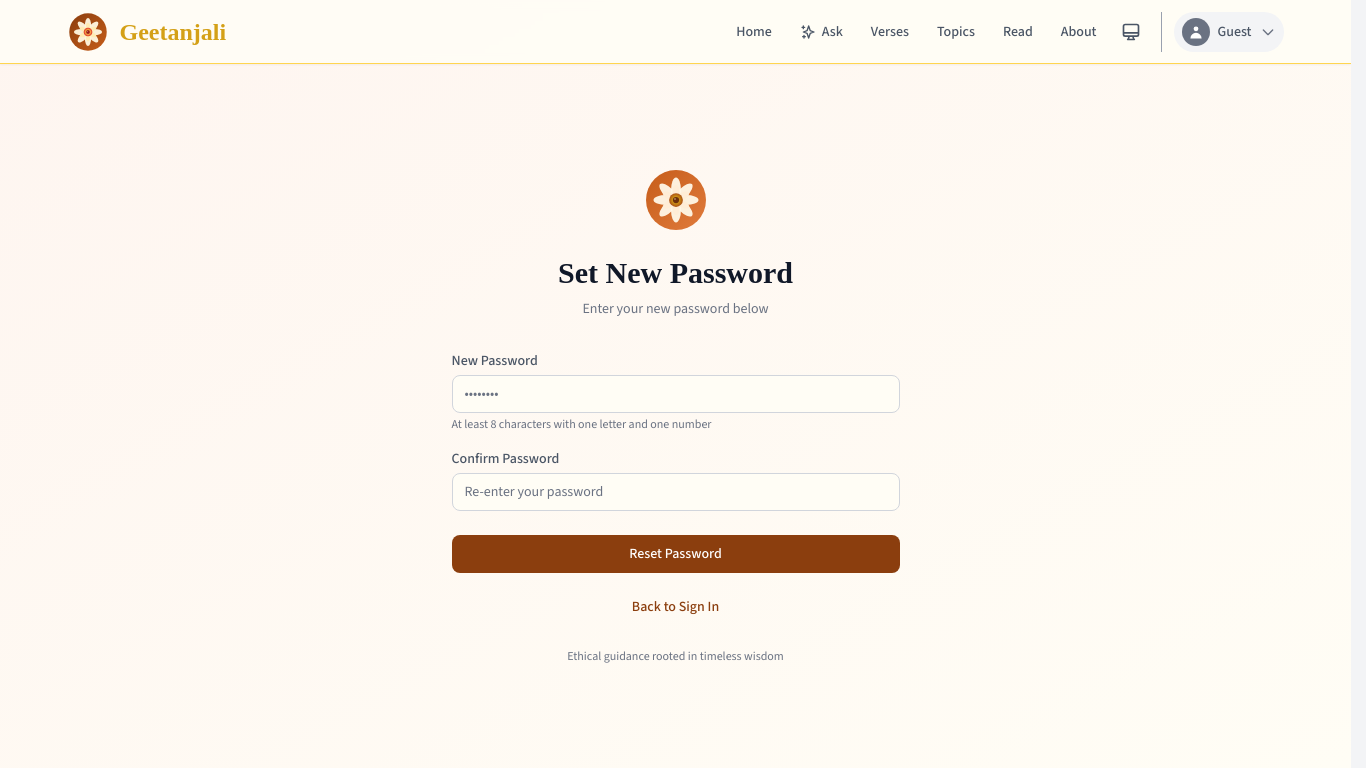
ResetPassword Page › should show error when password is too short
The width and height of the screenshot is (1366, 768).
Type "short" into the password field labelled "New Password".
click(676, 394); type("short")  # box [452,374,900,412]
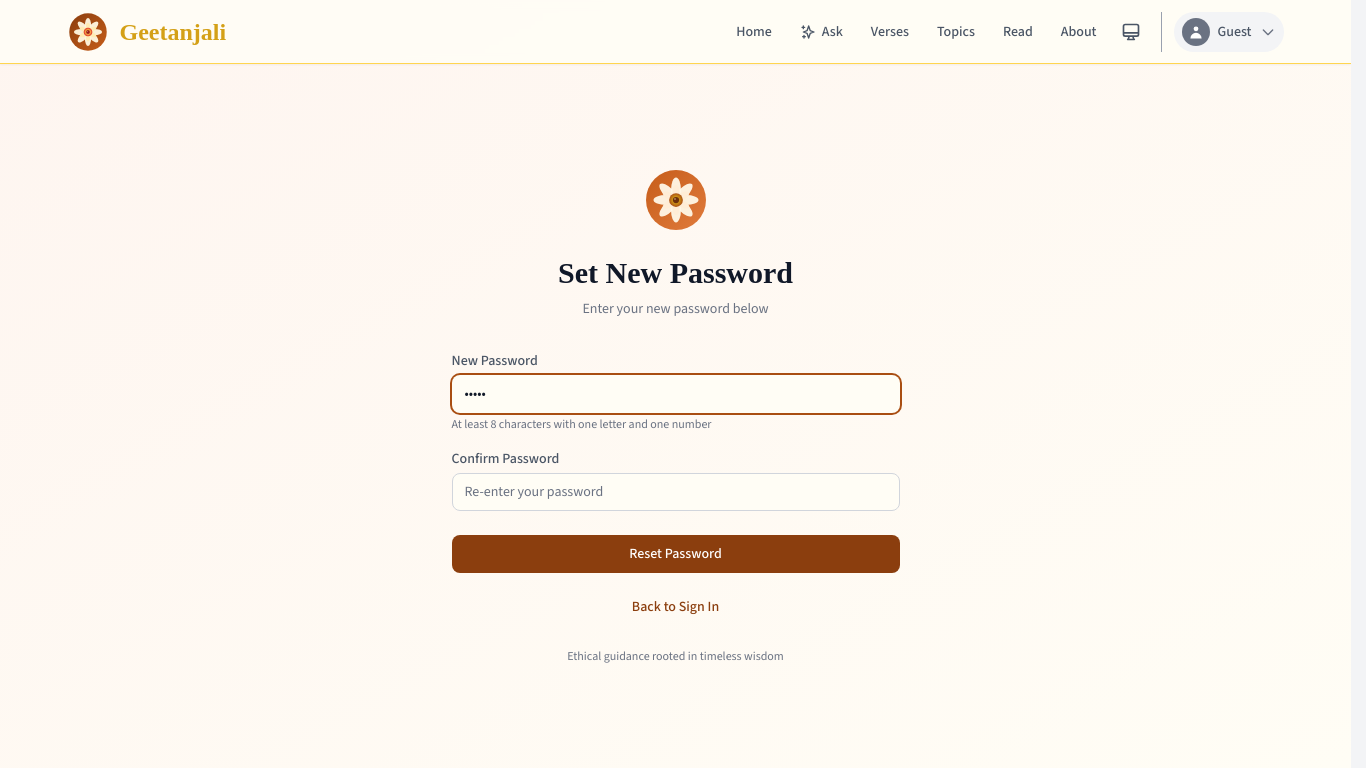
Type "short" into the password field labelled "Confirm Password".
click(676, 492); type("short")  # box [452,472,900,510]
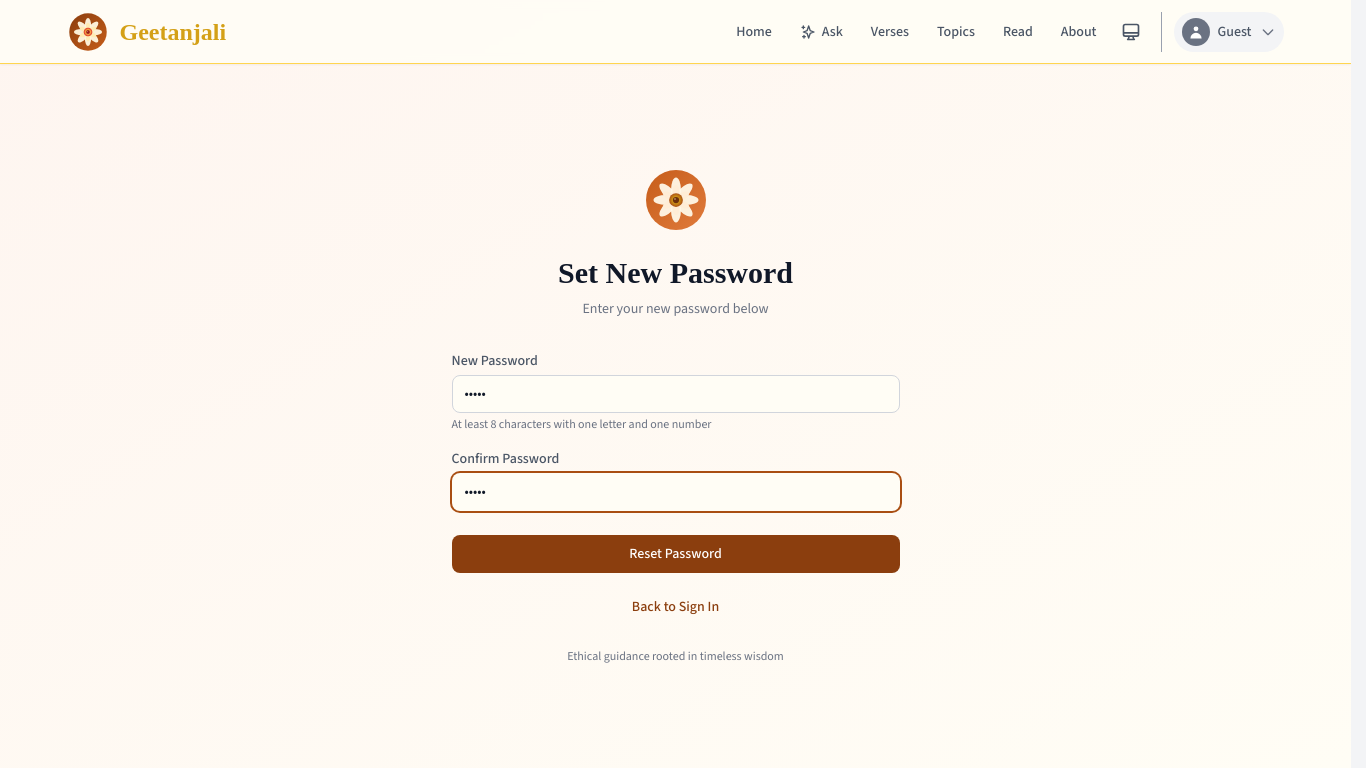
Click the button "Reset Password".
click(676, 554)  # box [452,534,900,572]
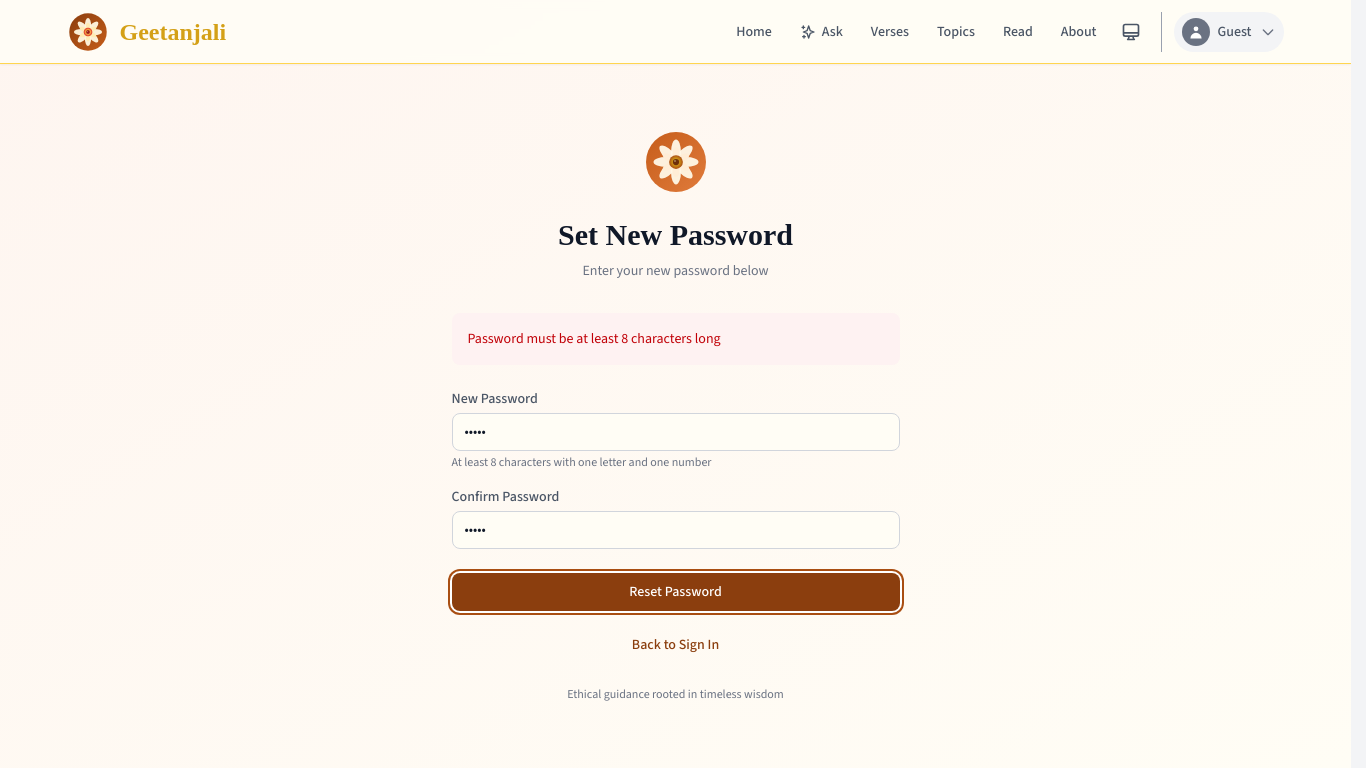
Expected: the text "Password must be at least 8 characters long" is shown, [468,328,721,348]
